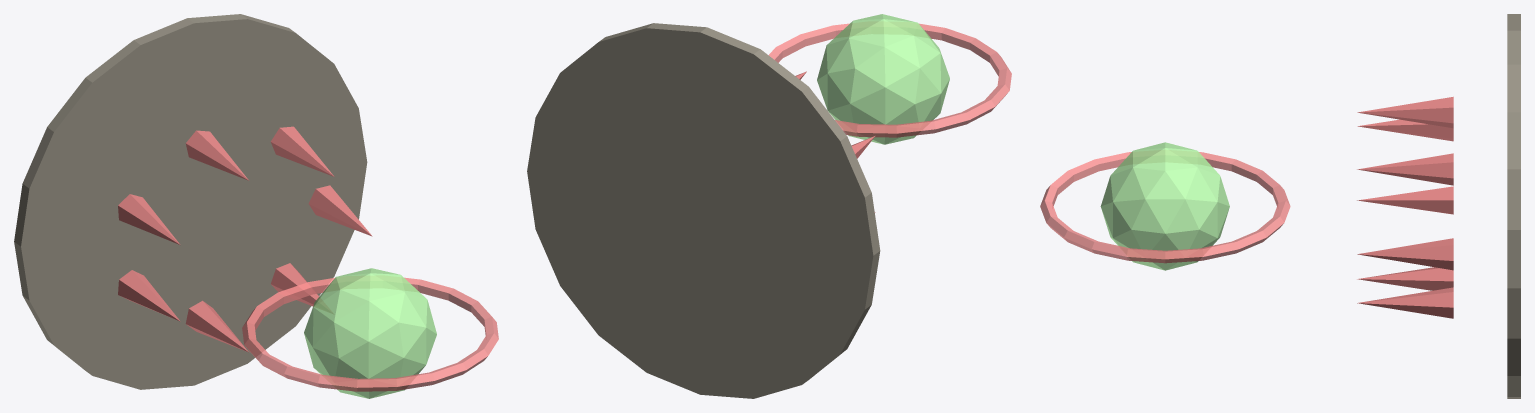
Rendered from 06_weather_terrain_nature_module.glb.
3 renders of one model, left to right at view 1: azimuth 30°, elevation 25°; view 2: azimuth 150°, elevation 25°; view 3: azimuth 270°, elevation 25°, orthographic. The views are drawn at different scales.
Parts seen in each view (by area): view 1: terrain_patch, sun_color_preview, weather_halo, nature_or_weather_element_2, nature_or_weather_element_1, nature_or_weather_element_0, nature_or_weather_element_3, nature_or_weather_element_5, nature_or_weather_element_4, nature_or_weather_element_6; view 2: terrain_patch, sun_color_preview, weather_halo; view 3: sun_color_preview, weather_halo, terrain_patch, nature_or_weather_element_0, nature_or_weather_element_1, nature_or_weather_element_2, nature_or_weather_element_6, nature_or_weather_element_4, nature_or_weather_element_5, nature_or_weather_element_3.
Boxes of the visible parts, box(x1,y1,x2,y2) form: terrain_patch: box(14, 14, 367, 389); sun_color_preview: box(304, 268, 436, 398); weather_halo: box(242, 277, 498, 391); nature_or_weather_element_2: box(185, 130, 248, 180); nature_or_weather_element_1: box(271, 126, 334, 176); nature_or_weather_element_0: box(308, 185, 372, 236); nature_or_weather_element_3: box(118, 194, 180, 244); nature_or_weather_element_5: box(185, 300, 248, 352); nature_or_weather_element_4: box(118, 270, 180, 321); nature_or_weather_element_6: box(271, 263, 319, 306); terrain_patch: box(527, 23, 880, 398); sun_color_preview: box(817, 14, 949, 144); weather_halo: box(768, 23, 1011, 137); sun_color_preview: box(1100, 142, 1229, 270); weather_halo: box(1040, 152, 1290, 263); terrain_patch: box(1507, 14, 1520, 398); nature_or_weather_element_0: box(1357, 238, 1453, 270); nature_or_weather_element_1: box(1357, 153, 1453, 185); nature_or_weather_element_2: box(1357, 96, 1453, 128); nature_or_weather_element_6: box(1357, 287, 1453, 318); nature_or_weather_element_4: box(1357, 186, 1453, 214); nature_or_weather_element_5: box(1357, 267, 1453, 290); nature_or_weather_element_3: box(1357, 119, 1453, 141).
Size of the model in its own units: 1.44 by 1.44 by 1.78.
